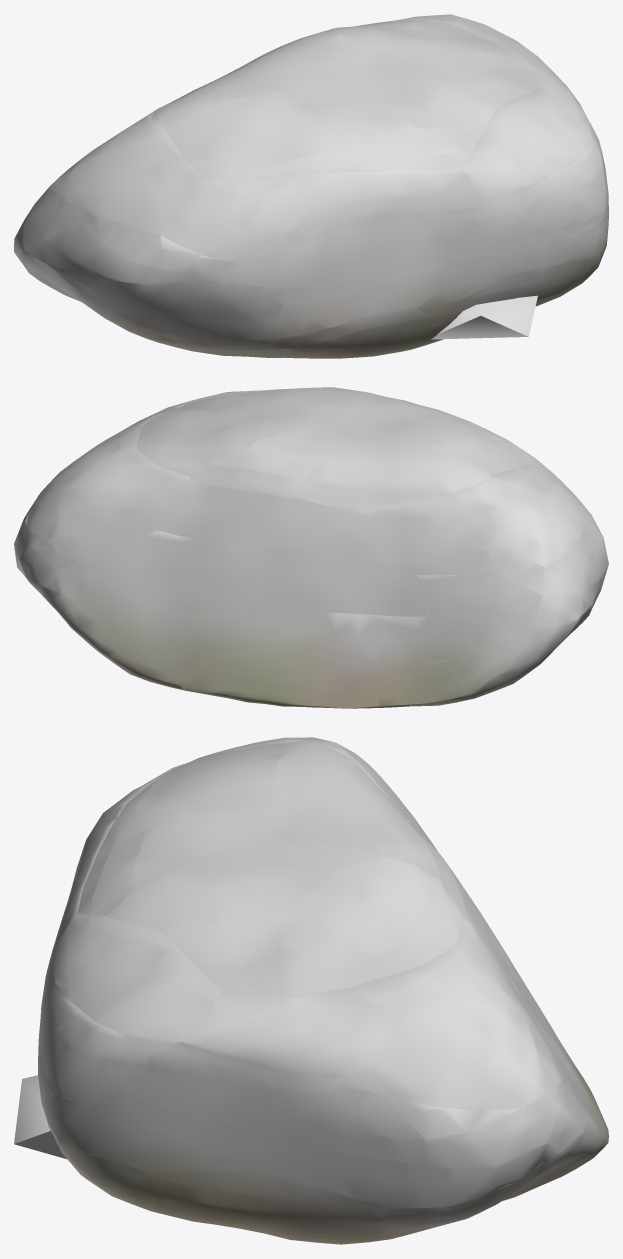
The model's file is coal_rock_v4.glb.
3 views of the same model, one above another, from view 1: azimuth 30°, elevation 25°; view 2: azimuth 150°, elevation 25°; view 3: azimuth 270°, elevation 25° (orthographic). The views are drawn at different scales.
Parts seen in each view (by area): view 1: Chunk_28, Chunk_23, Chunk_10, Chunk_17, Chunk_16, Chunk_22, Chunk_24, Chunk_18, Chunk_29, Chunk_30, Chunk_04, Chunk_27 (+6 smaller); view 2: Chunk_22, Chunk_27, Chunk_08, Chunk_25, Chunk_21, Chunk_16, Chunk_15, Chunk_02, Chunk_09, Chunk_03, Chunk_29, Chunk_14 (+5 smaller); view 3: Chunk_25, Chunk_29, Chunk_07, Chunk_19, Chunk_28, Chunk_24, Chunk_00, Chunk_12, Chunk_27, Chunk_30, Chunk_18, Chunk_01 (+7 smaller).
Boxes of the visible parts, x1,y1,x2,y2 form: Chunk_28: (165, 82, 477, 176); Chunk_23: (160, 167, 479, 261); Chunk_10: (43, 262, 389, 345); Chunk_17: (222, 208, 481, 287); Chunk_16: (17, 187, 226, 283); Chunk_22: (49, 111, 200, 234); Chunk_24: (462, 87, 592, 202); Chunk_18: (472, 129, 608, 256); Chunk_29: (331, 20, 539, 108); Chunk_30: (329, 34, 494, 140); Chunk_04: (209, 306, 444, 358); Chunk_27: (151, 29, 339, 127); Chunk_22: (349, 464, 585, 575); Chunk_27: (230, 425, 491, 511); Chunk_08: (75, 569, 311, 658); Chunk_25: (26, 401, 191, 537); Chunk_21: (155, 473, 351, 553); Chunk_16: (417, 506, 608, 630); Chunk_15: (217, 547, 431, 616); Chunk_02: (182, 643, 379, 708); Chunk_09: (311, 611, 533, 669); Chunk_03: (377, 609, 591, 707); Chunk_29: (136, 389, 278, 476); Chunk_14: (43, 529, 233, 583); Chunk_25: (181, 921, 556, 1109); Chunk_29: (162, 857, 463, 994); Chunk_07: (264, 1075, 589, 1208); Chunk_19: (150, 1043, 522, 1139); Chunk_28: (77, 742, 287, 915); Chunk_24: (51, 913, 222, 1043); Chunk_00: (151, 1171, 385, 1244); Chunk_12: (38, 1049, 265, 1171); Chunk_27: (274, 741, 448, 886); Chunk_30: (106, 828, 385, 931); Chunk_18: (38, 956, 154, 1104); Chunk_01: (369, 1088, 608, 1242).
Size of the model in its own units: 2.88 by 1.16 by 2.11.
